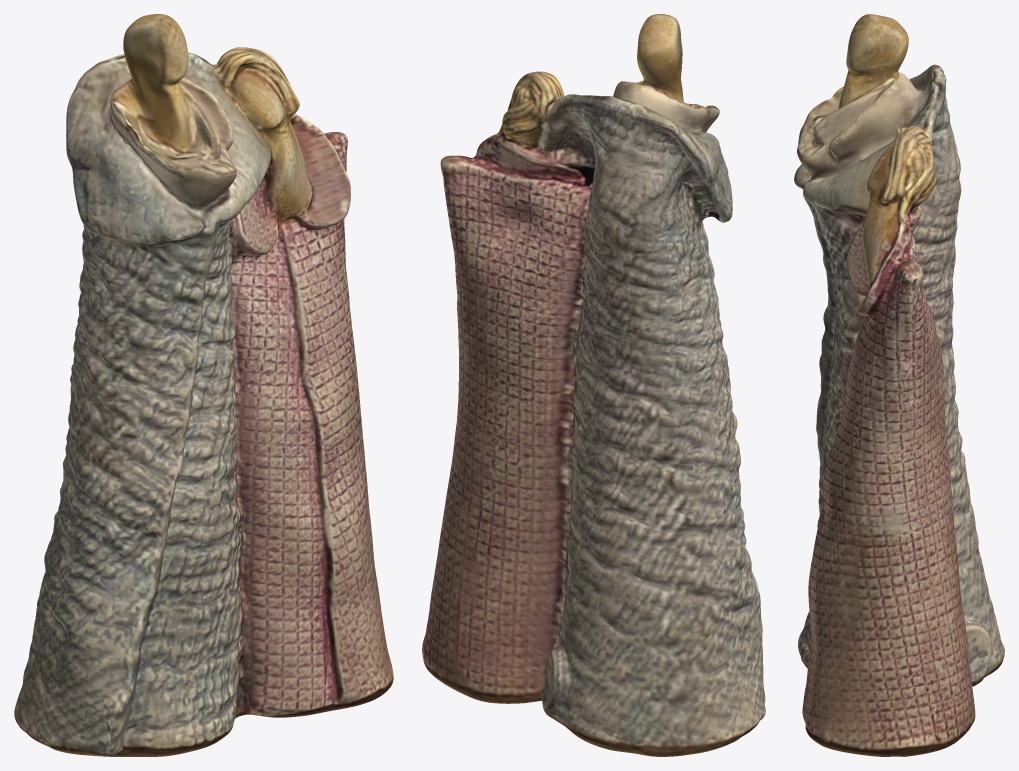
The model's file is modelo.glb.
The picture shows the model from 3 angles, left to right: view 1: azimuth 30°, elevation 25°; view 2: azimuth 150°, elevation 25°; view 3: azimuth 270°, elevation 25°; orthographic projection. The views are drawn at different scales.
Visible parts, largest first — view 1: CAL0803PosProcess; view 2: CAL0803PosProcess; view 3: CAL0803PosProcess.
Boxes of the visible parts, bbox=[...] form: CAL0803PosProcess: bbox=[14, 14, 393, 756]; CAL0803PosProcess: bbox=[422, 14, 765, 756]; CAL0803PosProcess: bbox=[794, 14, 1004, 756].
Size of the model in its own units: 111 by 225 by 65.26.
1 material, 1 textured.
